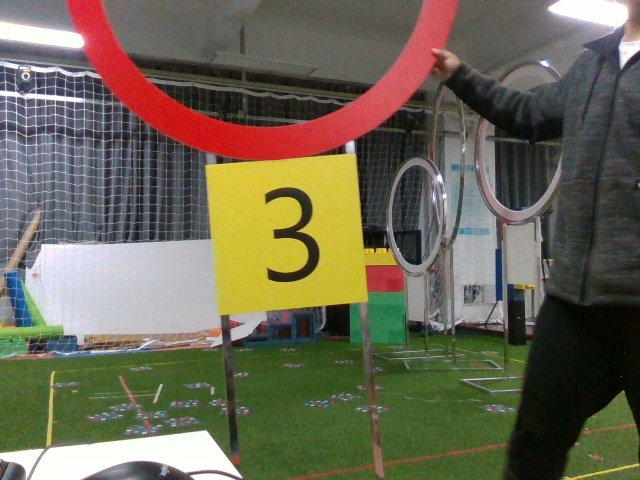target: (209, 166, 367, 308)
